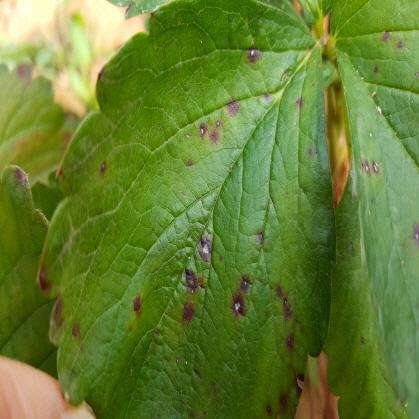Leaf Spot: (39, 0, 335, 418), (327, 0, 418, 418), (323, 169, 405, 418)
